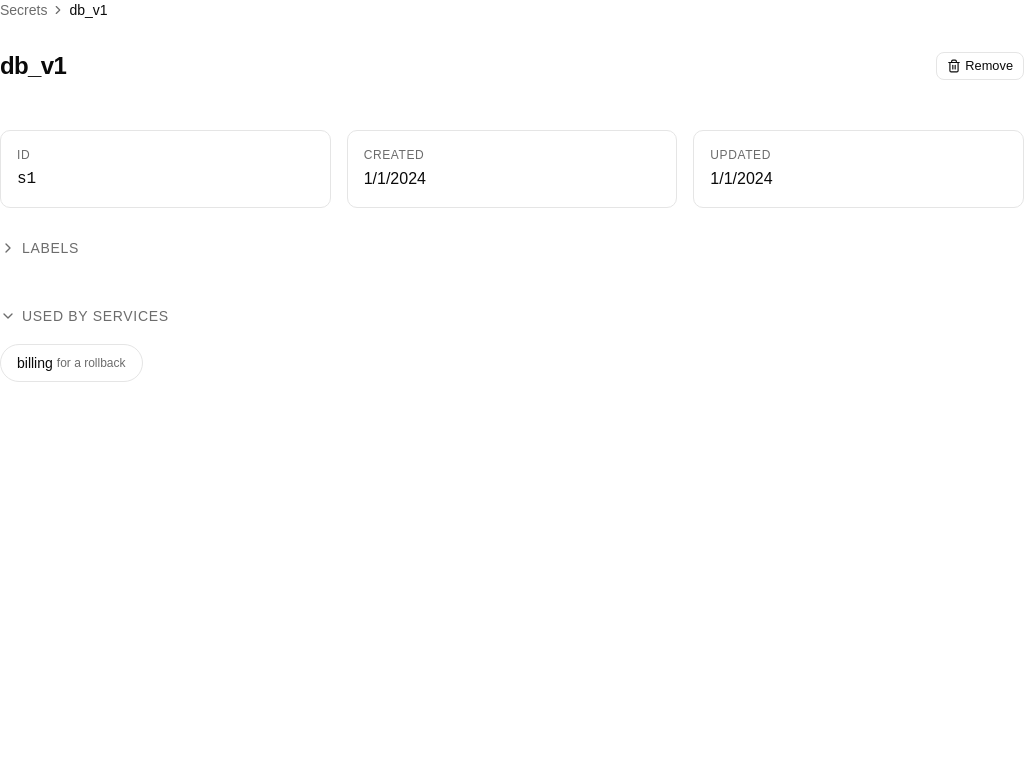
DataResourceDetail removal › allows removing a version only rollbacks need, and names who loses it
Click the button "Remove" at (980, 66), box [936,52,1023,80]
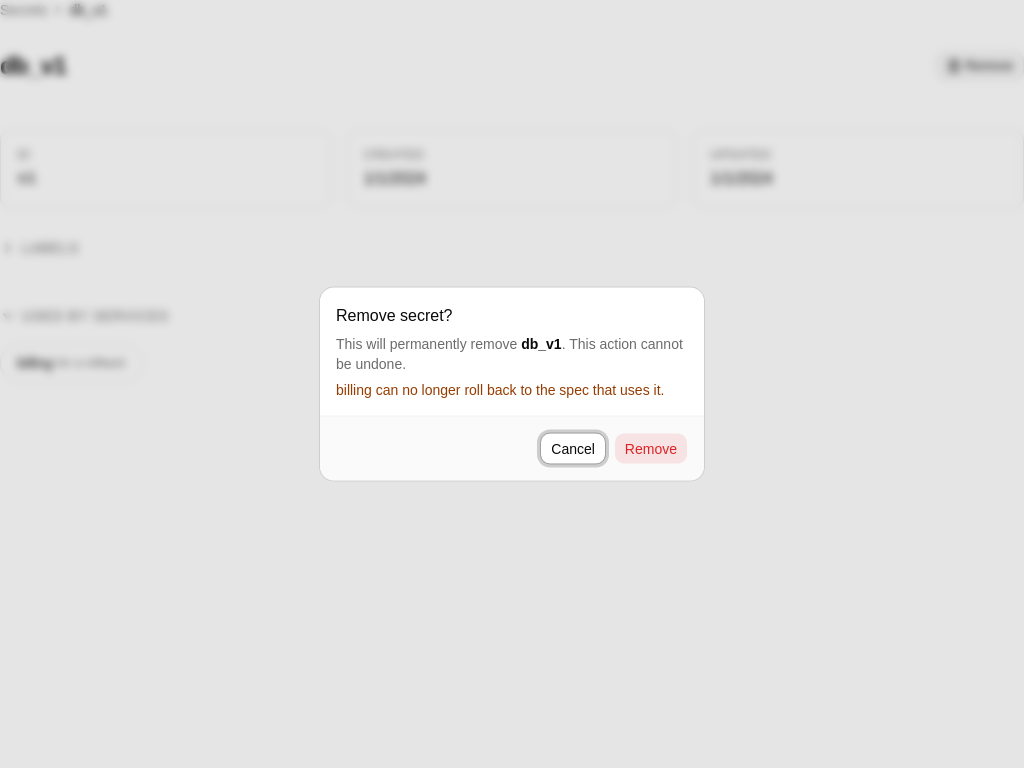
Now the text "billing can no longer roll back to the spec that uses it." is shown, box [336,380,664,400]
